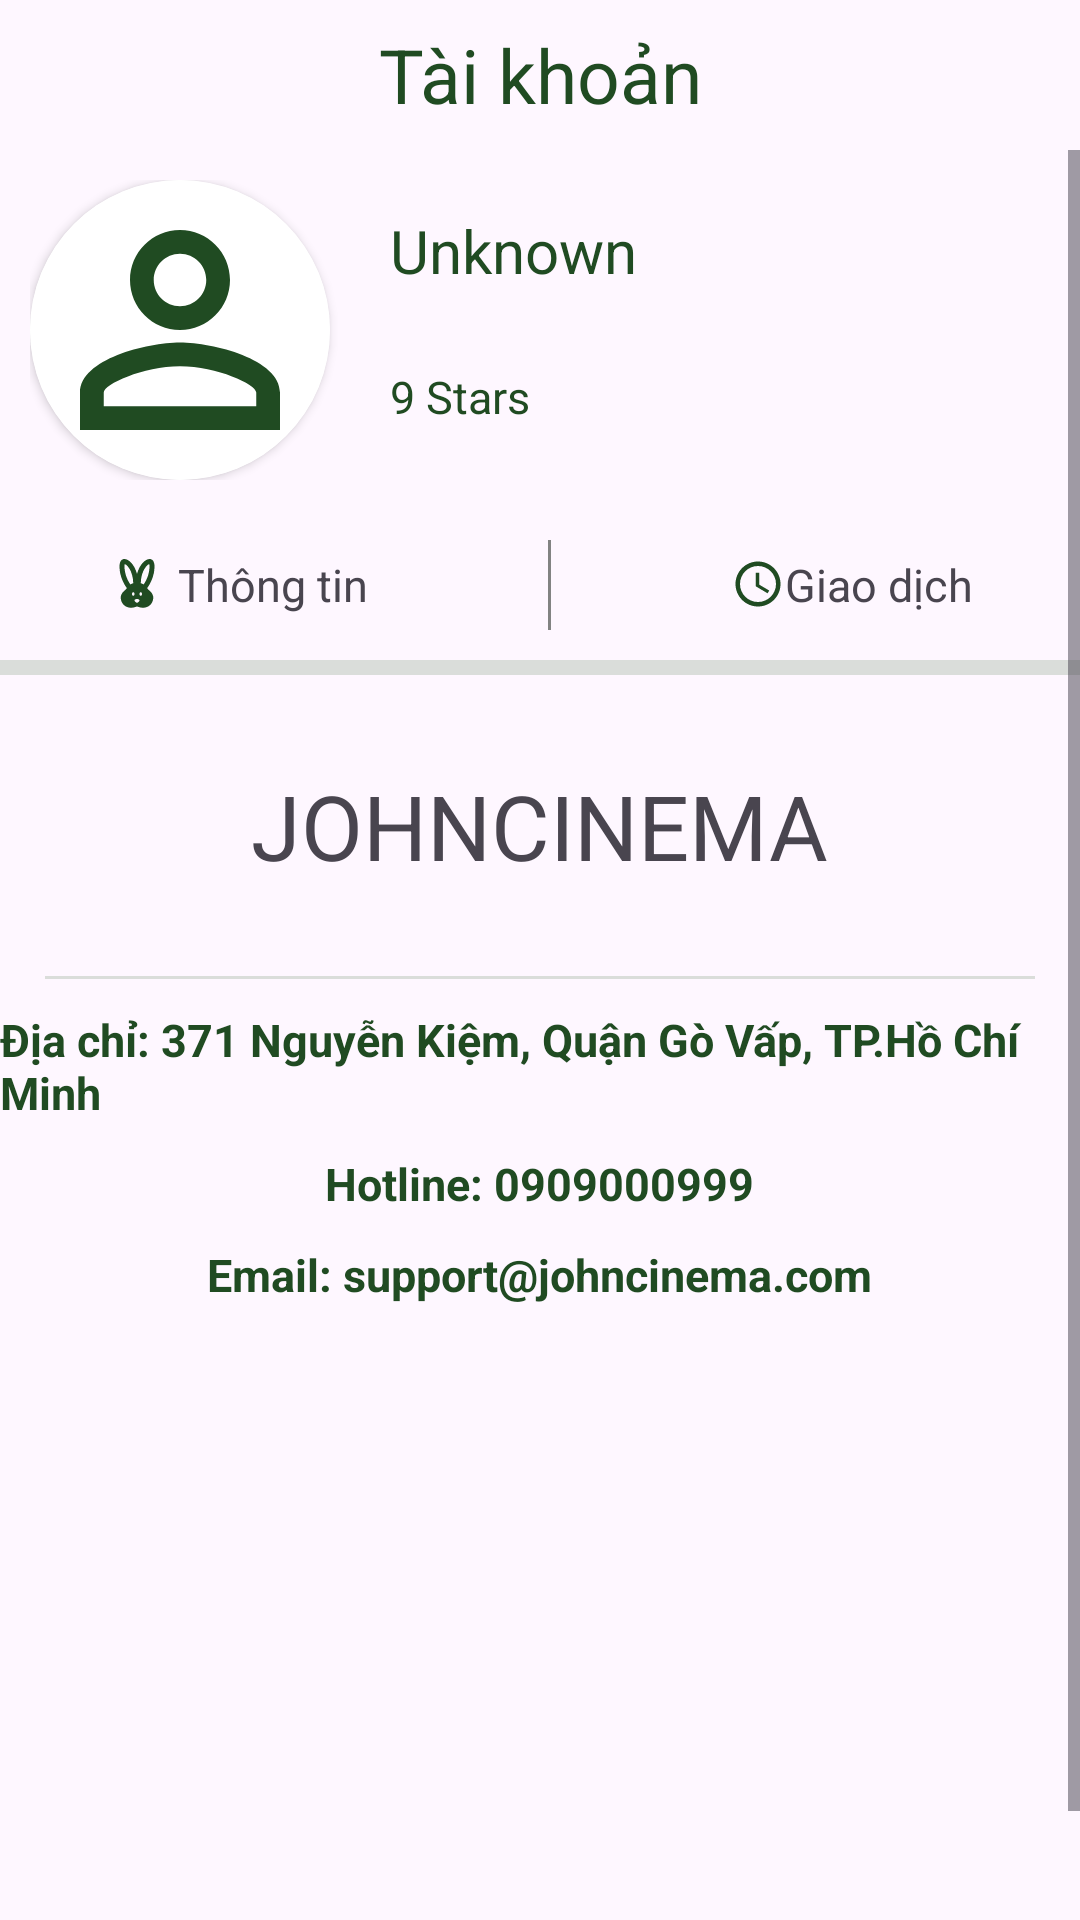

Named icons in this screenshot (1080×1920) and their bounding boxes, (x1, y1, x2, y2):
person: (30, 180, 330, 480)
